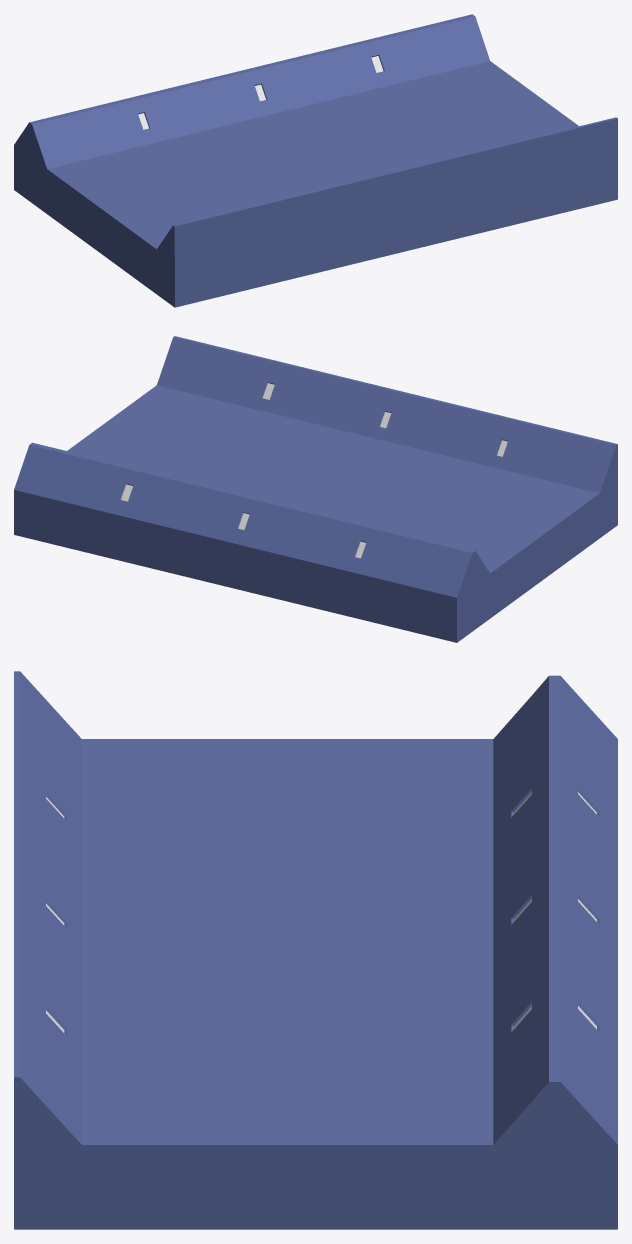
File: staticmesh_Bridge_HalfTrackRight.fbx
3 views of the same model, one above another, from view 1: azimuth 30°, elevation 25°; view 2: azimuth 150°, elevation 25°; view 3: azimuth 270°, elevation 25° (orthographic). The views are drawn at different scales.
Parts seen in each view (by area): view 1: geo_Bridge_HalfTrackRight; view 2: geo_Bridge_HalfTrackRight; view 3: geo_Bridge_HalfTrackRight.
Part boxes in pixels (x1,y1,x2,y2): geo_Bridge_HalfTrackRight: [14, 14, 617, 307]; geo_Bridge_HalfTrackRight: [14, 336, 617, 642]; geo_Bridge_HalfTrackRight: [14, 671, 617, 1229].
Size of what is drawn, in the model's own units: 621 by 109 by 390.
